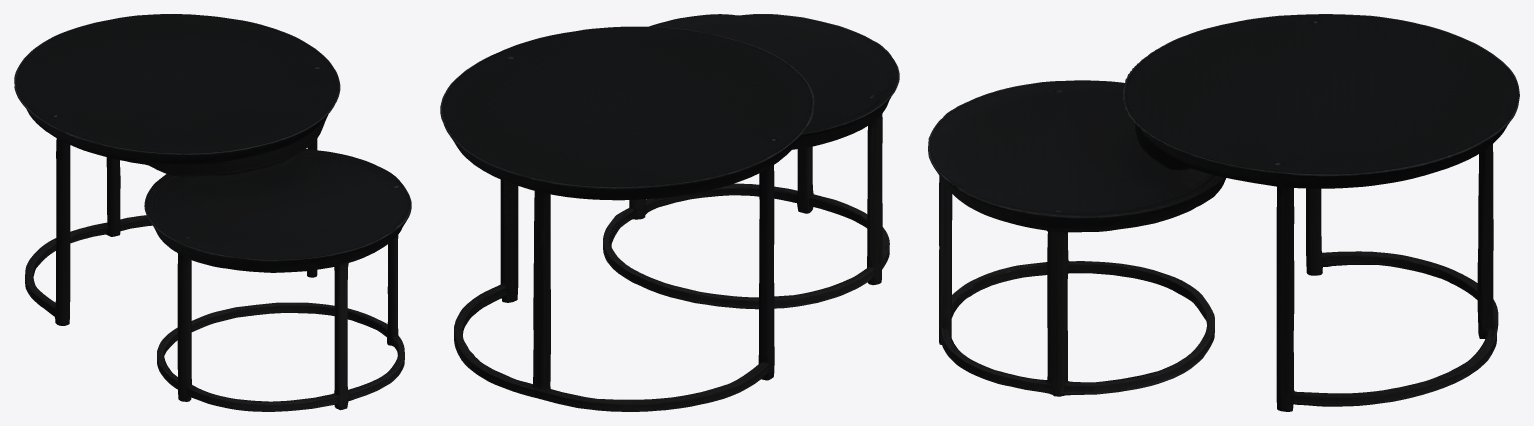
Rendered from mwct2p04_coffee_table_2_piece_black.glb.
3 renders of one model, left to right at view 1: azimuth 30°, elevation 25°; view 2: azimuth 150°, elevation 25°; view 3: azimuth 270°, elevation 25°, orthographic. The views are drawn at different scales.
Parts seen in each view (by area): view 1: world; view 2: world; view 3: world.
Part boxes in pixels (<box>): world: <box>14,14,411,411</box>; world: <box>440,14,899,411</box>; world: <box>928,14,1519,411</box>.
Size of the model in its own units: 0.6427 by 0.4606 by 0.9984.
Materials: 1 (1 with a texture image).
